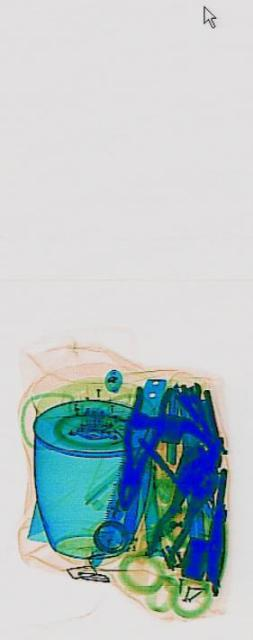Pliers: (107, 348, 172, 532)
